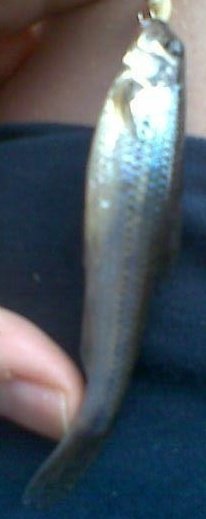Gobio gobio: (20, 20, 186, 499)
